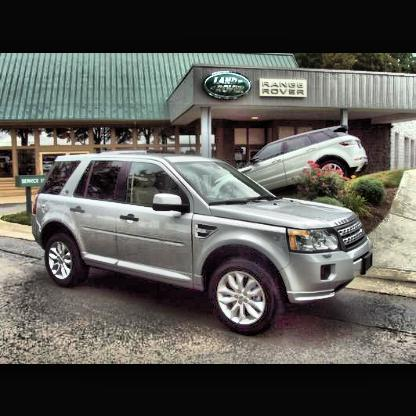Land Rover LR2 SUV 2012: (33, 155, 373, 335)
